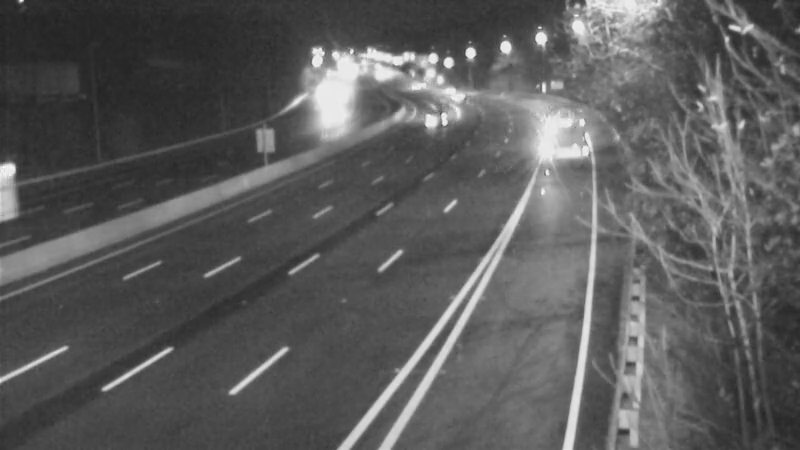vehicle: (422, 64, 472, 114), (431, 72, 481, 122), (409, 92, 459, 142), (529, 105, 579, 155)
